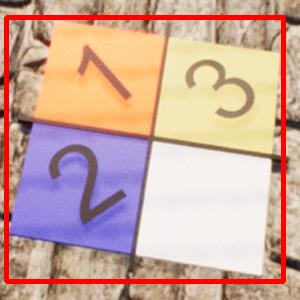nfpa: (6, 17, 283, 281)
